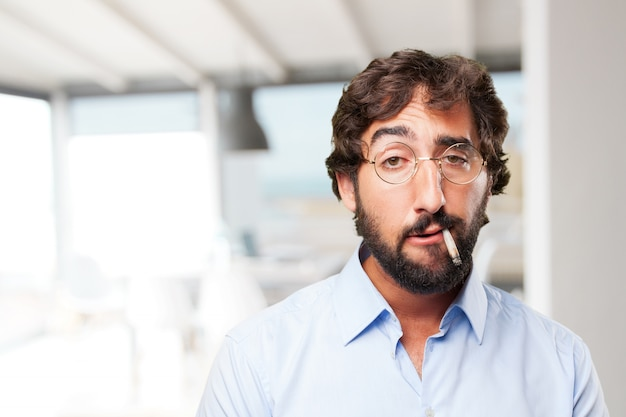cigarette: (441, 227, 463, 266)
